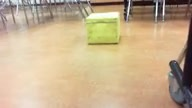cube: (85, 12, 120, 44)
